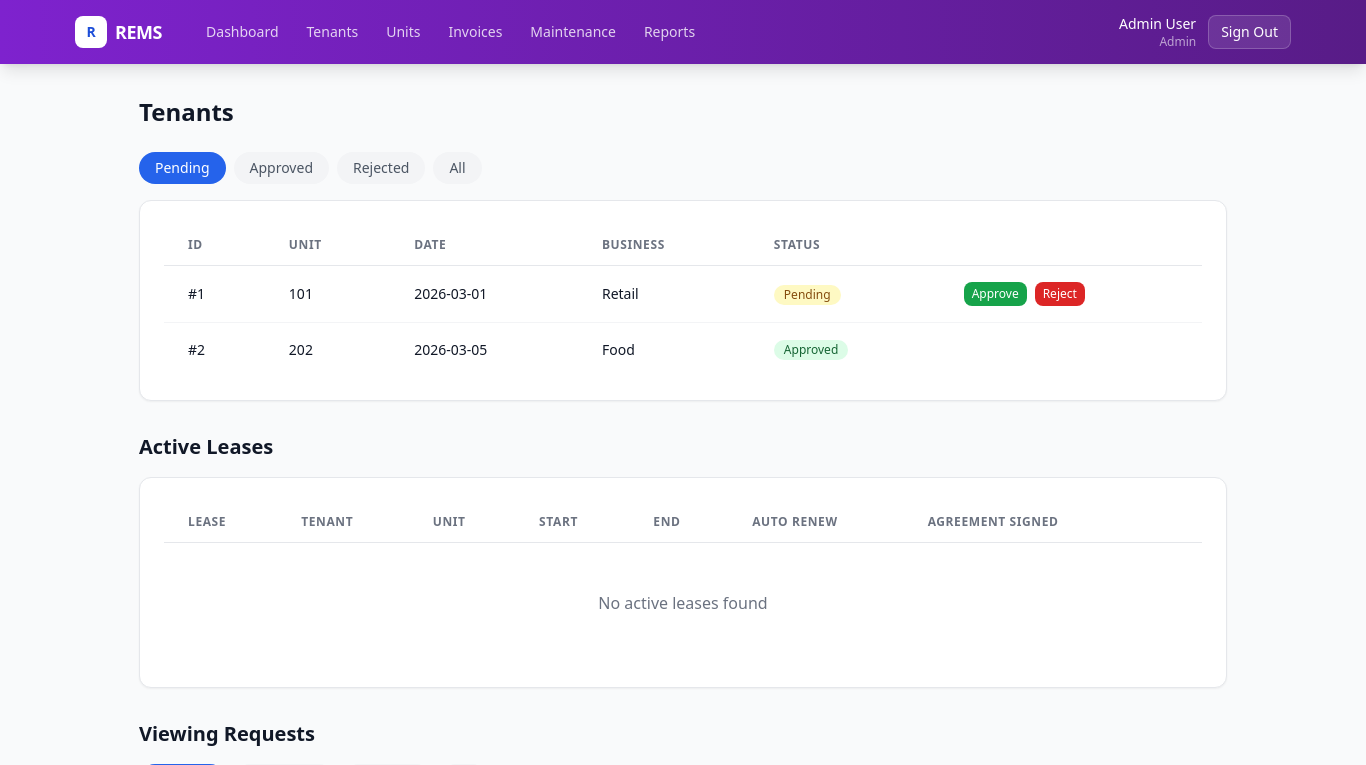
Test case: TC-04/TC-25: Applications List page (clerk) › shows success message after approving application
Click the button "Approve" at (995, 294), box x1=964 y1=282 x2=1027 y2=306
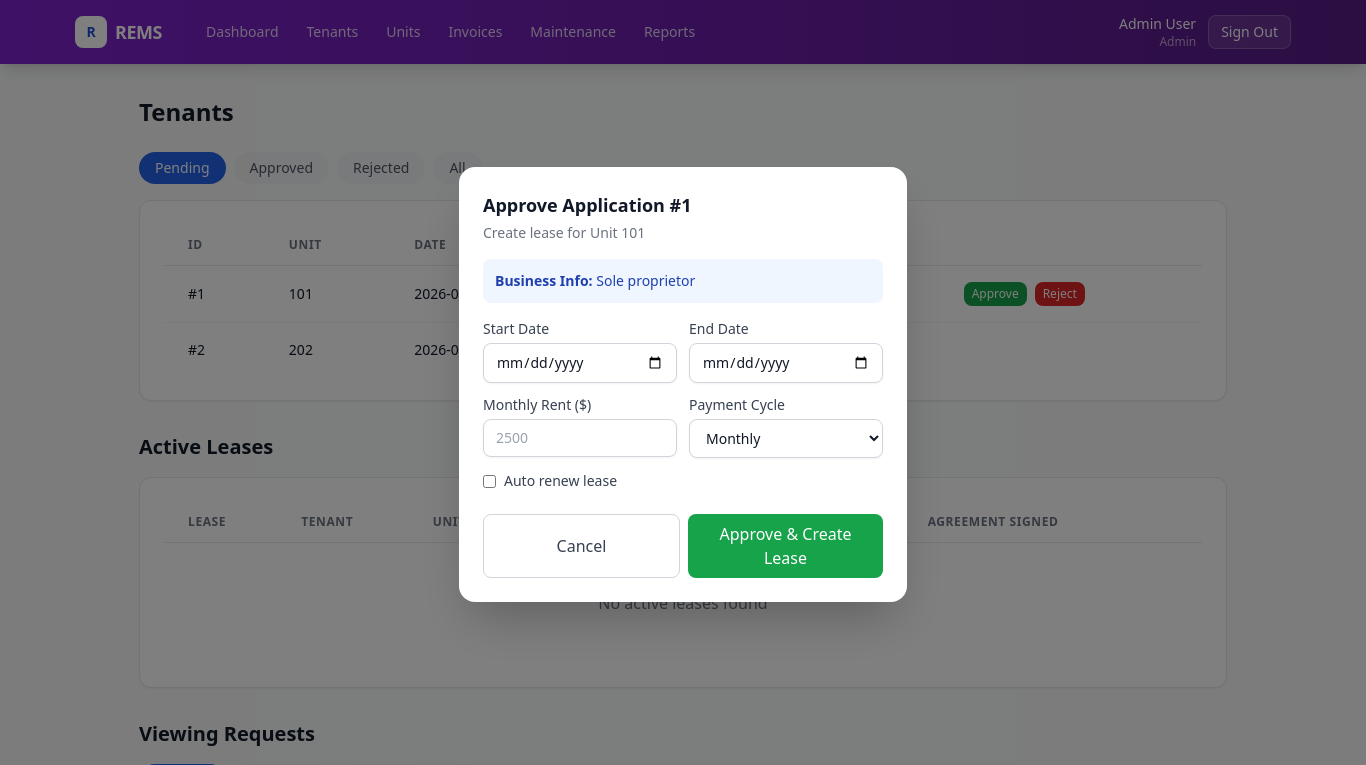
Check: the button "Approve & Create Lease" is shown
Click the button "Approve & Create Lease" at (786, 546), box x1=688 y1=514 x2=883 y2=578
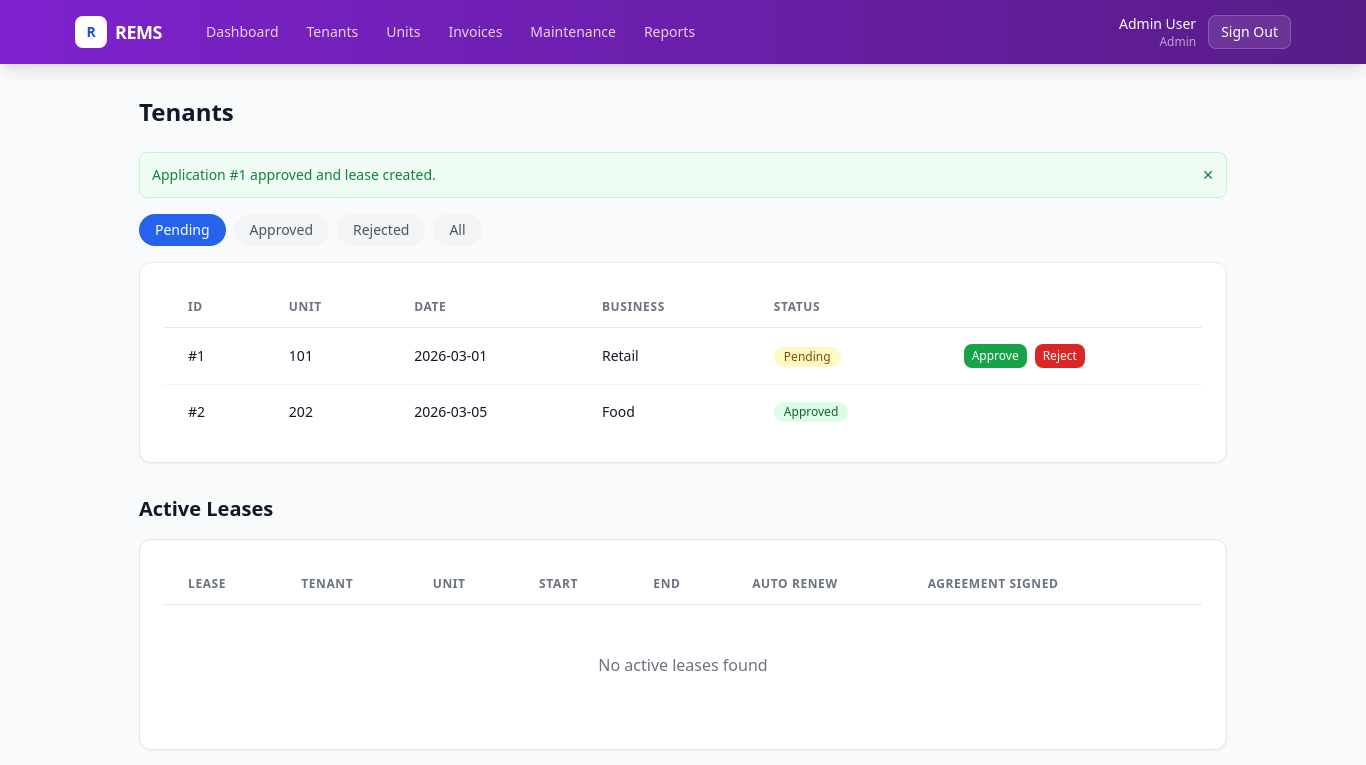
Check: the text "Application #1 approved and lease created. ✕" is shown, box x1=139 y1=152 x2=1227 y2=198
